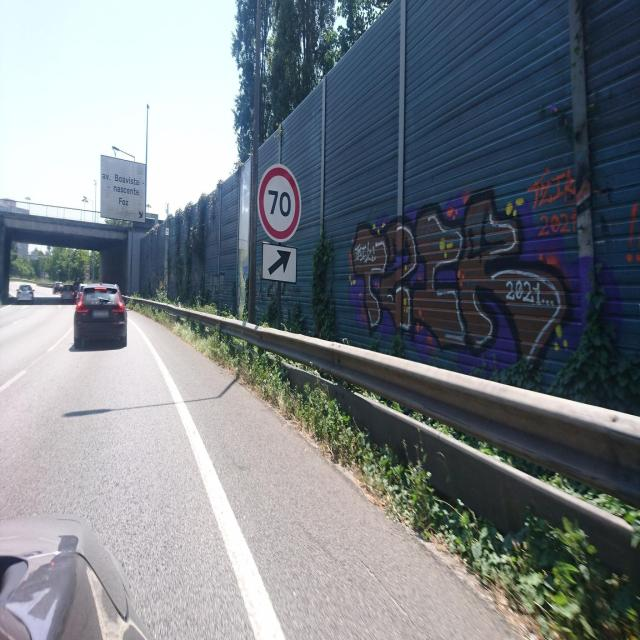car: (73, 281, 128, 349), (16, 283, 35, 302), (53, 280, 63, 294)
